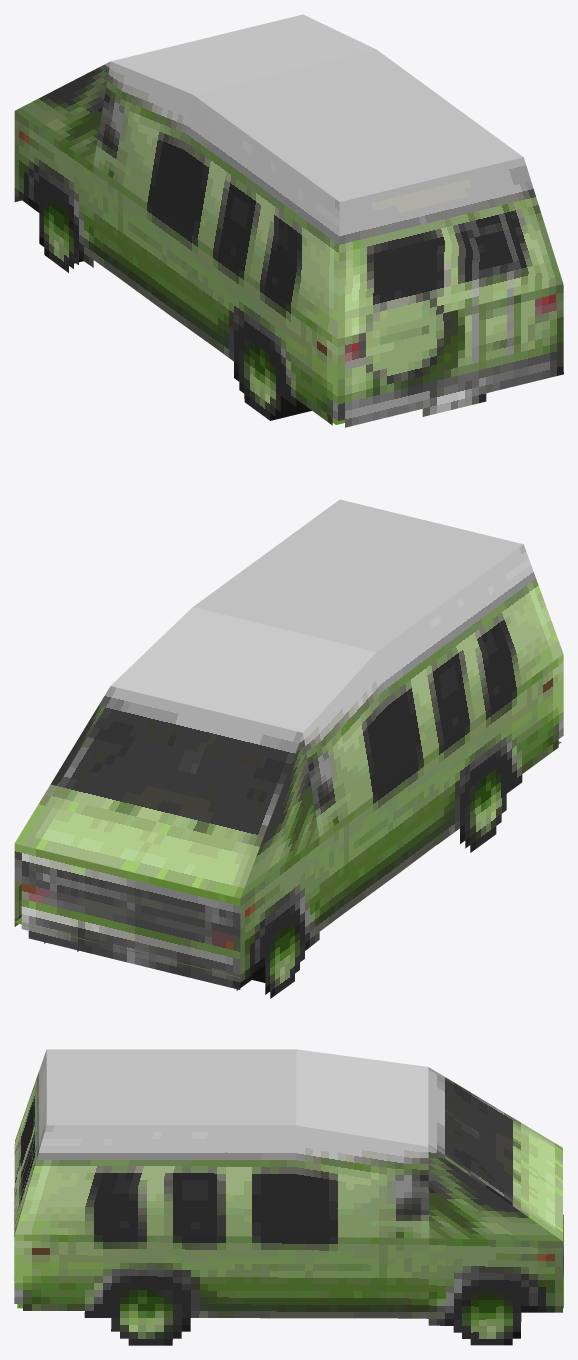
The model's file is car-vandura.glb.
3 views of the same model, one above another, from view 1: azimuth 30°, elevation 25°; view 2: azimuth 150°, elevation 25°; view 3: azimuth 270°, elevation 25° (orthographic). The views are drawn at different scales.
Parts seen in each view (by area): view 1: car-vandura; view 2: car-vandura; view 3: car-vandura.
Boxes of the visible parts, x1,y1,x2,y2 form: car-vandura: [14, 14, 563, 427]; car-vandura: [14, 499, 563, 998]; car-vandura: [14, 1049, 563, 1345].
Bounding box in the file's own units: 2.02 × 2.12 × 5.01.
Materials: 16 (16 with a texture image).
